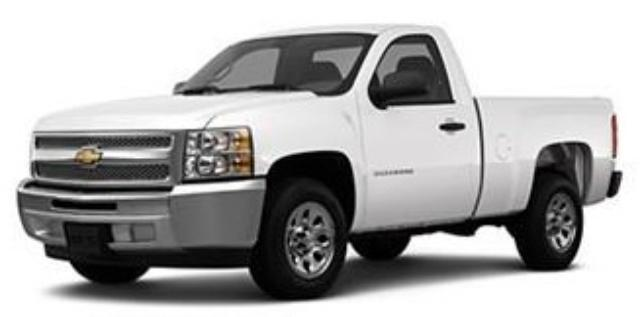pickup-truck: (17, 24, 623, 300)
